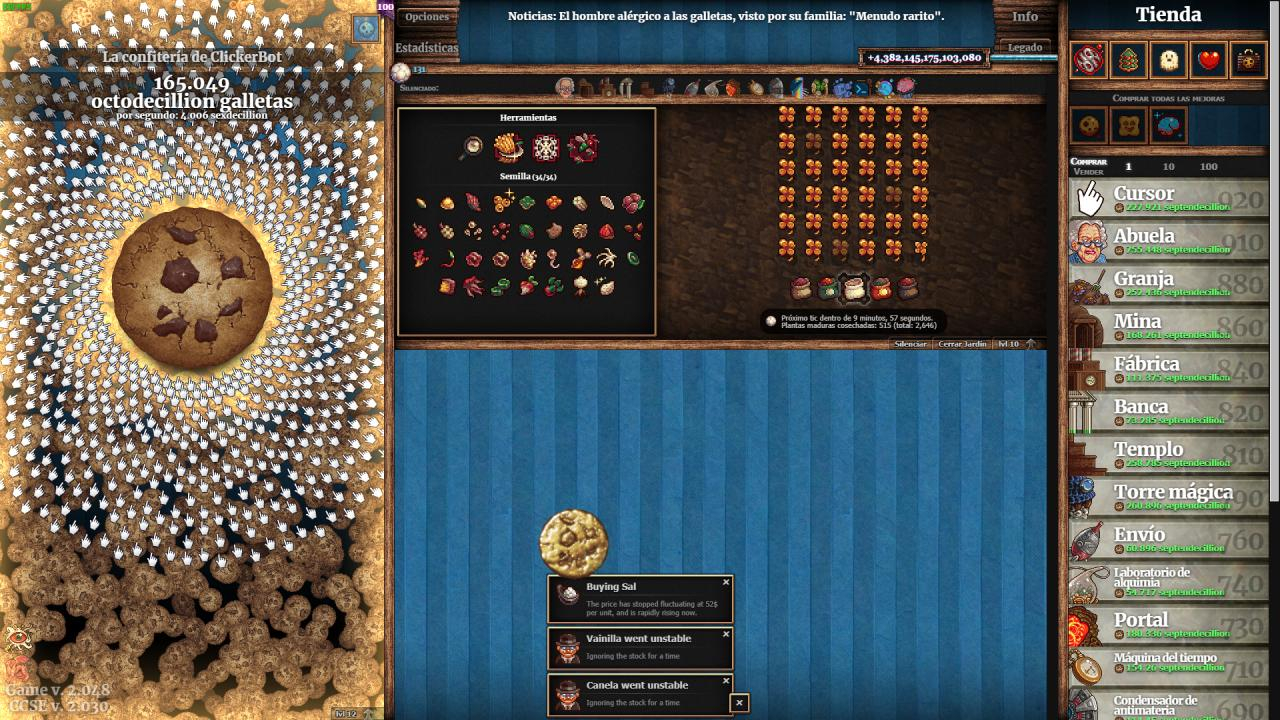GoldenCookie: (537, 506, 611, 580)
